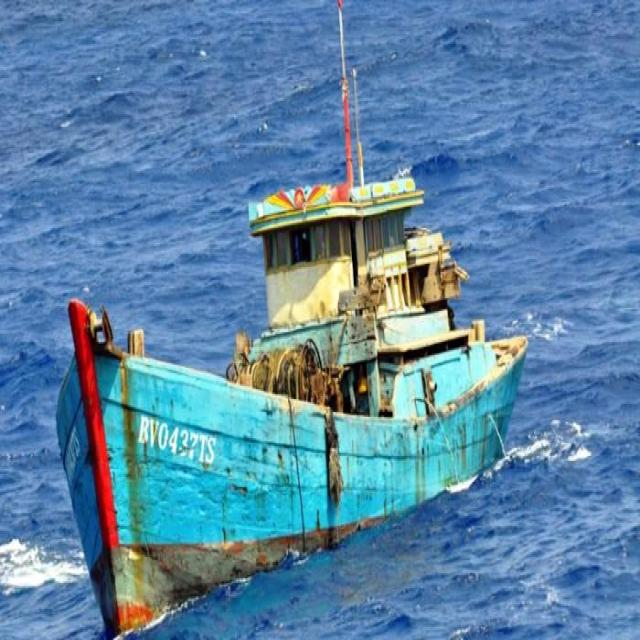Fishing Boat: (44, 99, 407, 528)
